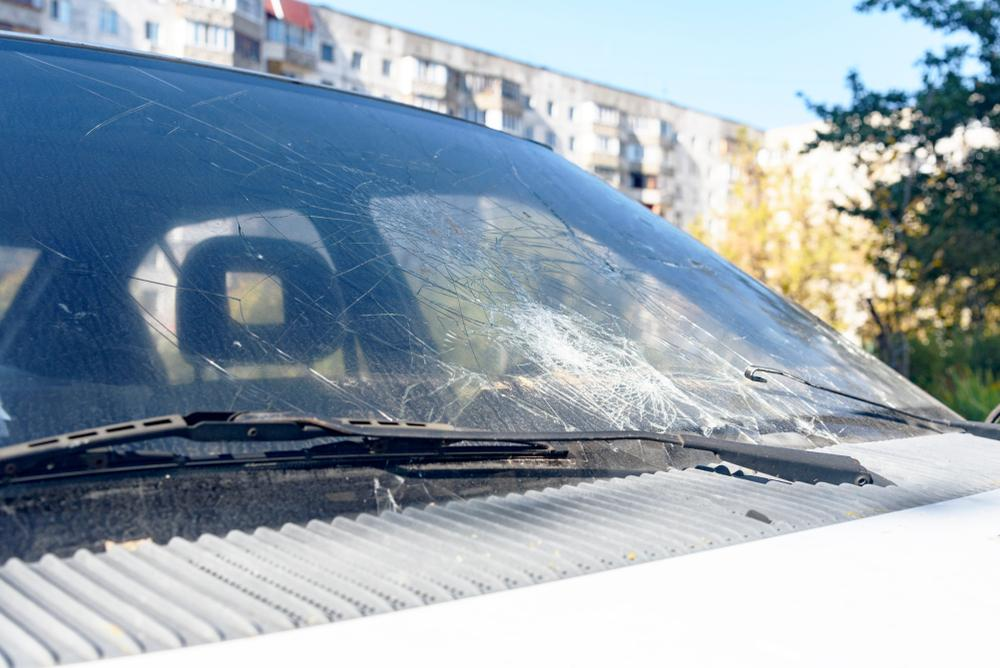glass shatter: (0, 36, 966, 561)
